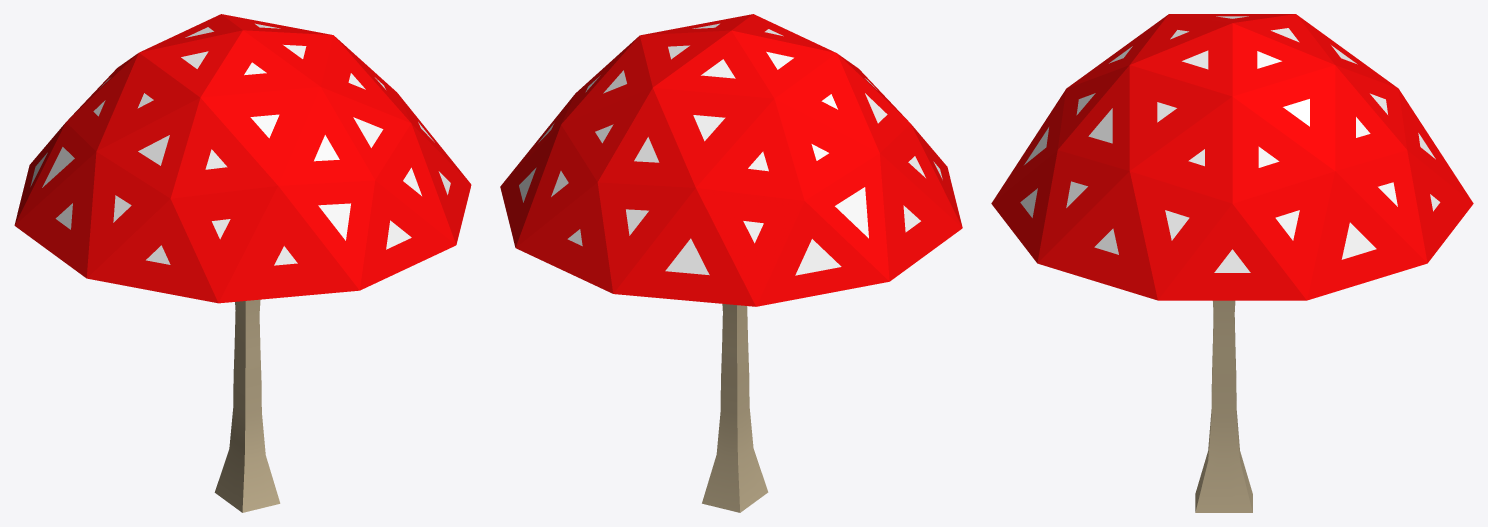
The model's file is cogumelo1.FBX.
The picture shows the model from 3 angles, left to right: view 1: azimuth 30°, elevation 25°; view 2: azimuth 150°, elevation 25°; view 3: azimuth 270°, elevation 25°; orthographic projection. The views are drawn at different scales.
Parts seen in each view (by area): view 1: GeoSphere001, Box001; view 2: GeoSphere001, Box001; view 3: GeoSphere001, Box001.
Part boxes in pixels (box(x1,y1,x2,y2)): GeoSphere001: box(14, 14, 471, 303); Box001: box(214, 299, 280, 512); GeoSphere001: box(500, 14, 962, 306); Box001: box(702, 304, 768, 512); GeoSphere001: box(991, 14, 1473, 300); Box001: box(1195, 300, 1252, 512).
Bounding box in the file's own units: 35.06 × 40.48 × 36.87.
